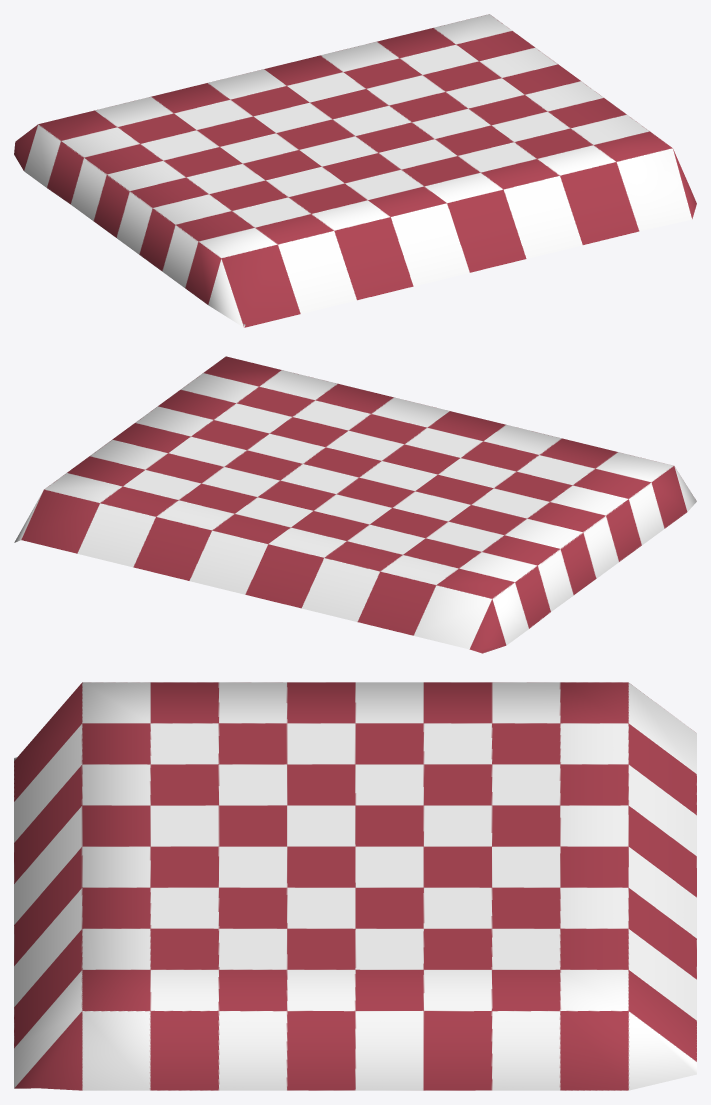
Rendered from Cloth.fbx.
3 renders of one model, top to bottom at view 1: azimuth 30°, elevation 25°; view 2: azimuth 150°, elevation 25°; view 3: azimuth 270°, elevation 25°, orthographic. The views are drawn at different scales.
Parts seen in each view (by area): view 1: Cloth; view 2: Cloth; view 3: Cloth.
Boxes of the visible parts, x1,y1,x2,y2 form: Cloth: (14, 14, 696, 327); Cloth: (14, 356, 696, 653); Cloth: (14, 682, 696, 1090).
Bounding box in the file's own units: 9.11 × 0.971 × 7.48.
